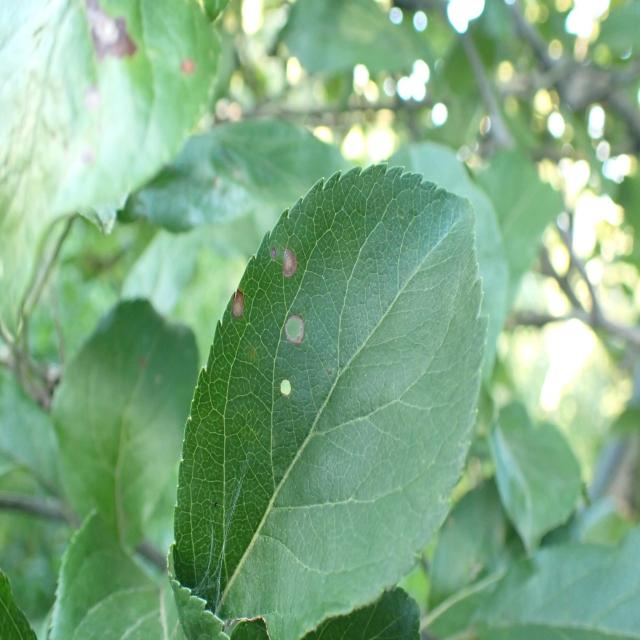Black Rot: (266, 369, 315, 433), (263, 220, 304, 289), (272, 309, 313, 362), (222, 276, 254, 329)
